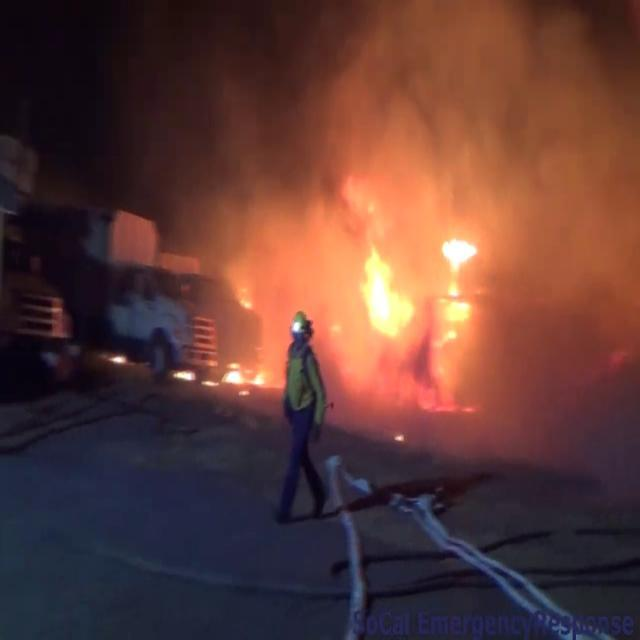Fire: (347, 208, 487, 392), (214, 354, 277, 396)
Smoke: (149, 1, 640, 250)
